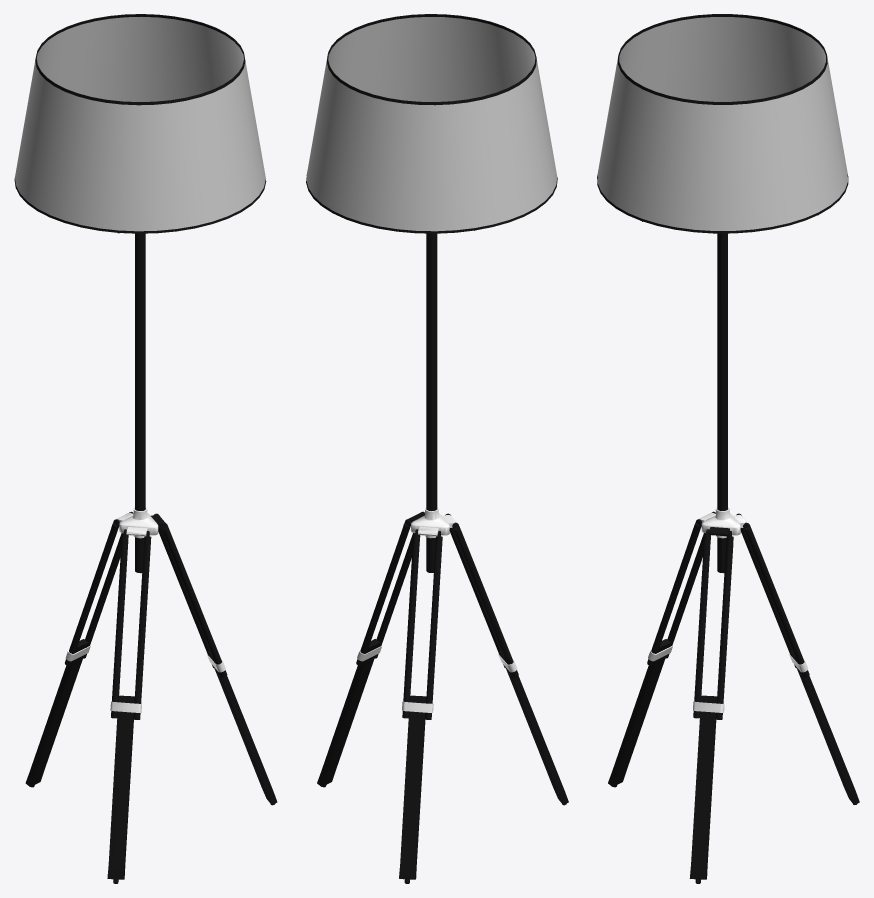
File: Lamp.FBX
3 renders of one model, left to right at view 1: azimuth 30°, elevation 25°; view 2: azimuth 150°, elevation 25°; view 3: azimuth 270°, elevation 25°, orthographic.
Visible parts, largest first — view 1: Lamp 2; view 2: Lamp 2; view 3: Lamp 2.
Part boxes in pixels (x1,y1,x2,y2): Lamp 2: (14, 14, 277, 883); Lamp 2: (306, 14, 568, 883); Lamp 2: (597, 14, 859, 883).
Size of the model in its own units: 581 by 570 by 1836.
2 materials, 1 textured.
